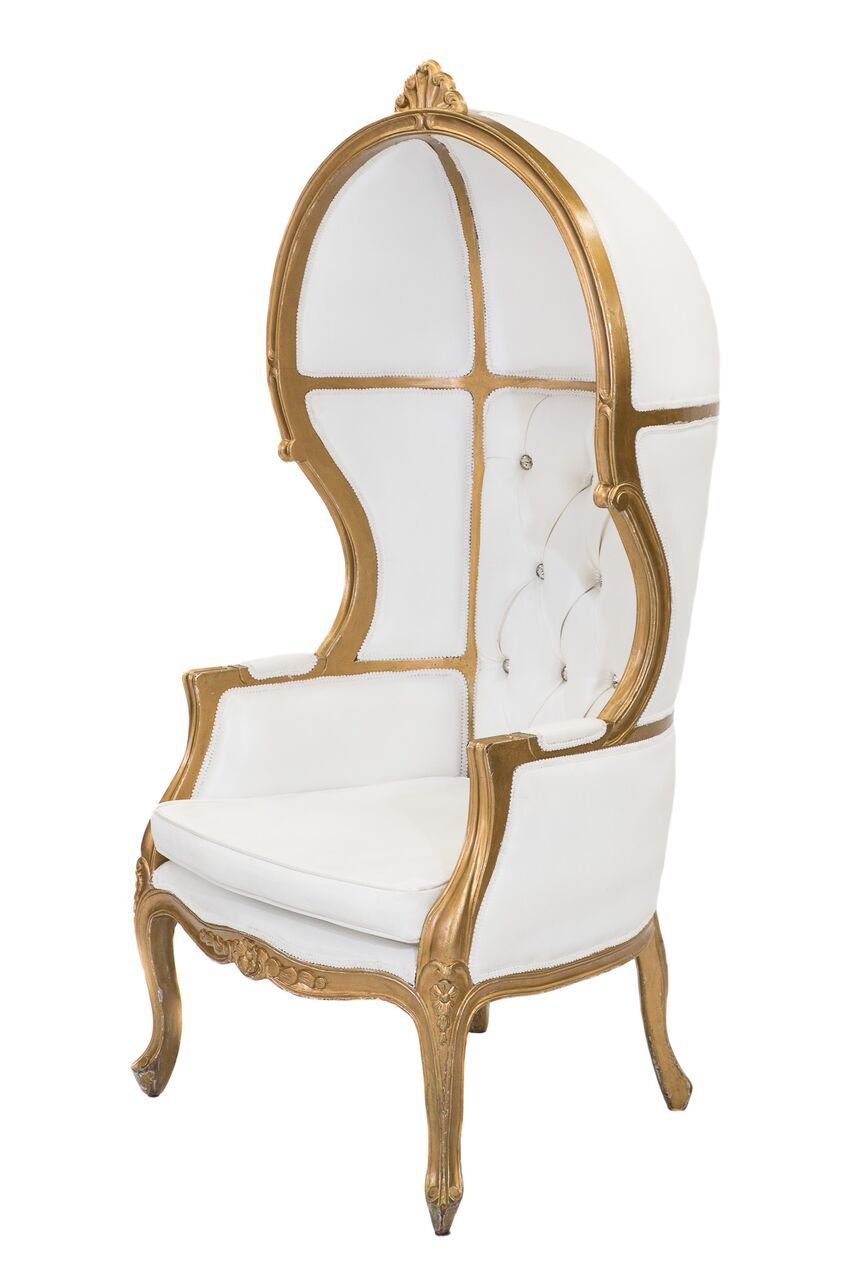chairs: (129, 53, 726, 1246)
